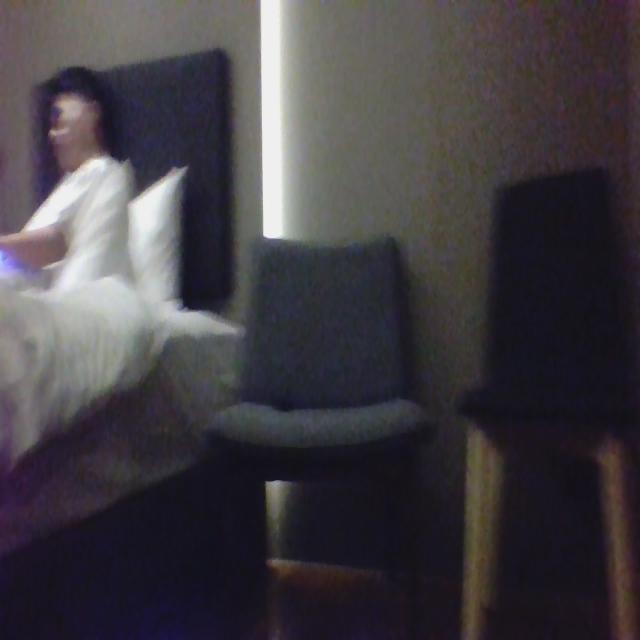empty: (204, 234, 420, 414), (478, 180, 592, 408)
